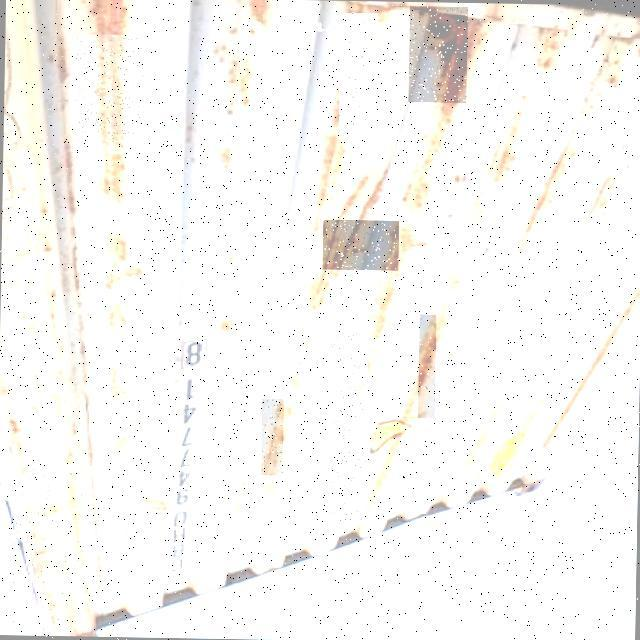Rust: (7, 461, 83, 624), (311, 310, 369, 521), (74, 34, 143, 154), (408, 6, 468, 103), (339, 12, 378, 135), (322, 219, 399, 270), (417, 314, 436, 418), (261, 398, 284, 475)
